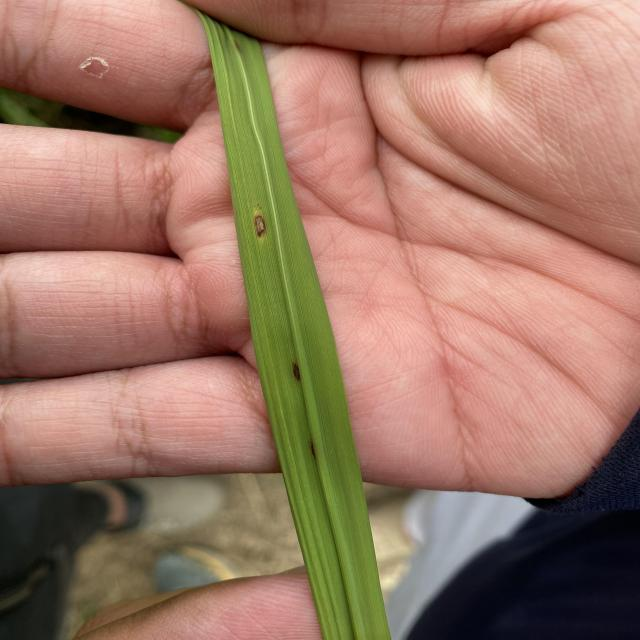Dom nau: (250, 214, 270, 242), (289, 359, 305, 384), (307, 439, 318, 462)
